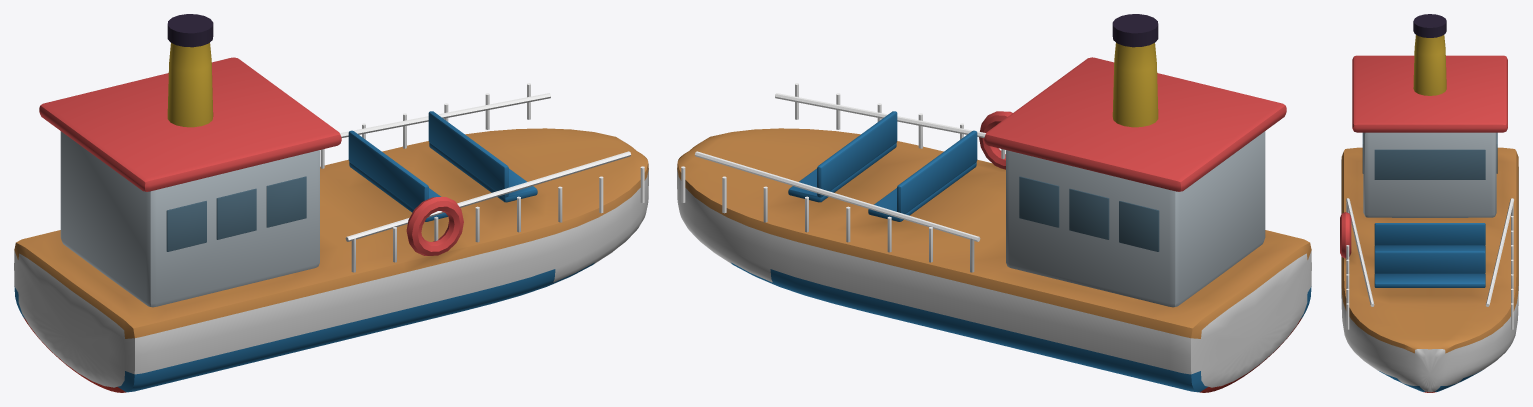
Rendered from boat-ferry.glb.
The picture shows the model from 3 angles, left to right: view 1: azimuth 30°, elevation 25°; view 2: azimuth 150°, elevation 25°; view 3: azimuth 270°, elevation 25°; orthographic projection. The views are drawn at different scales.
Parts seen in each view (by area): view 1: body; view 2: body; view 3: body.
Boxes of the visible parts, <box> form: body: <box>14,14,648,392</box>; body: <box>677,14,1311,392</box>; body: <box>1340,14,1518,392</box>.
Size of the model in its own units: 8.55 by 4.59 by 3.22.
